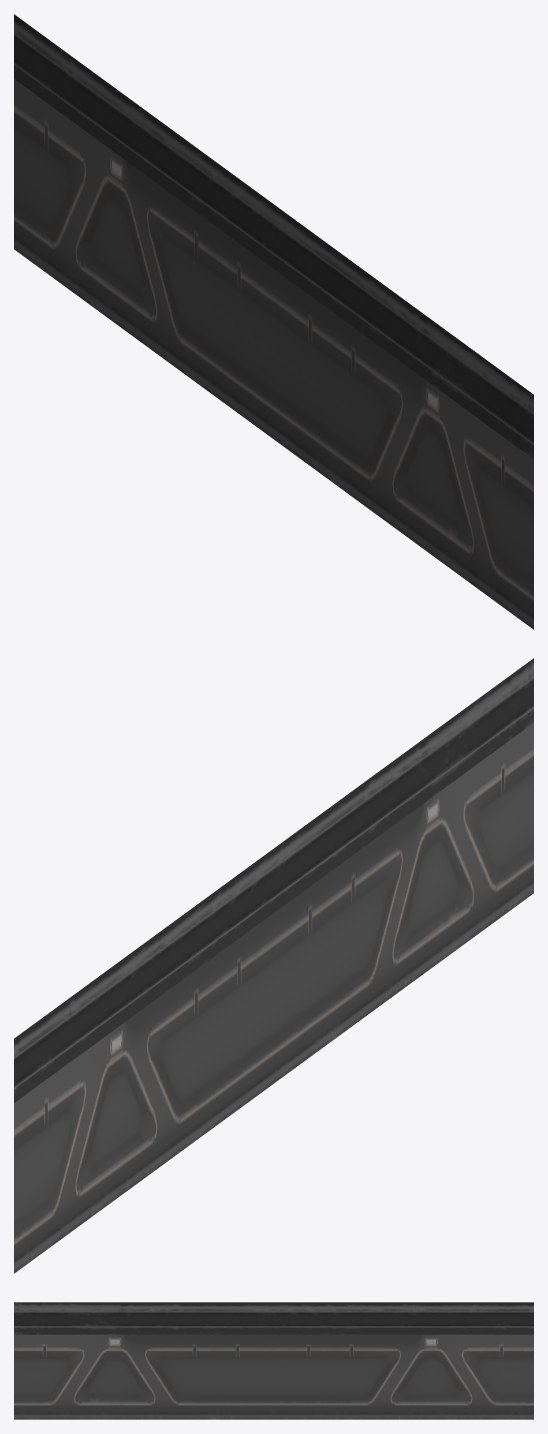
The model's file is S_ShortWallTrianglesStraight.gltf.
The picture shows the model from 3 angles, top to bottom: view 1: azimuth 30°, elevation 25°; view 2: azimuth 150°, elevation 25°; view 3: azimuth 270°, elevation 25°; orthographic projection. The views are drawn at different scales.
Visible parts, largest first — view 1: Plane_240-col; view 2: Plane_240-col; view 3: Plane_240-col.
Part boxes in pixels (left/top/right/bottom): Plane_240-col: left=14, top=14, right=533, bottom=629; Plane_240-col: left=14, top=658, right=533, bottom=1273; Plane_240-col: left=14, top=1302, right=533, bottom=1419.
Size of the model in its own units: 4.77e-07 by 0.9981 by 4.
1 material, 1 textured.
